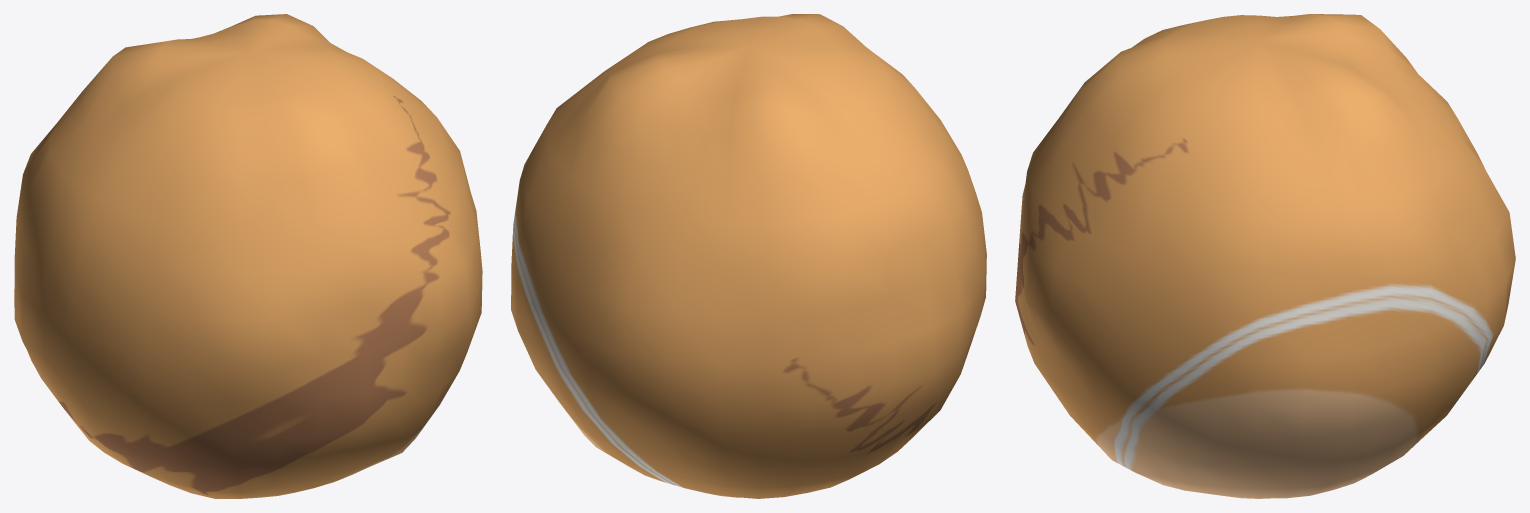
Rendered from sand planet.fbx.
The picture shows the model from 3 angles, left to right: view 1: azimuth 30°, elevation 25°; view 2: azimuth 150°, elevation 25°; view 3: azimuth 270°, elevation 25°; orthographic projection. The views are drawn at different scales.
Visible parts, largest first — view 1: Sphere.002; view 2: Sphere.002; view 3: Sphere.002.
Boxes of the visible parts, x1,y1,x2,y2 form: Sphere.002: [14, 14, 482, 498]; Sphere.002: [511, 14, 986, 498]; Sphere.002: [1015, 14, 1515, 498].
Bounding box in the file's own units: 207 × 200 × 208.
Materials: 1 (1 with a texture image).
